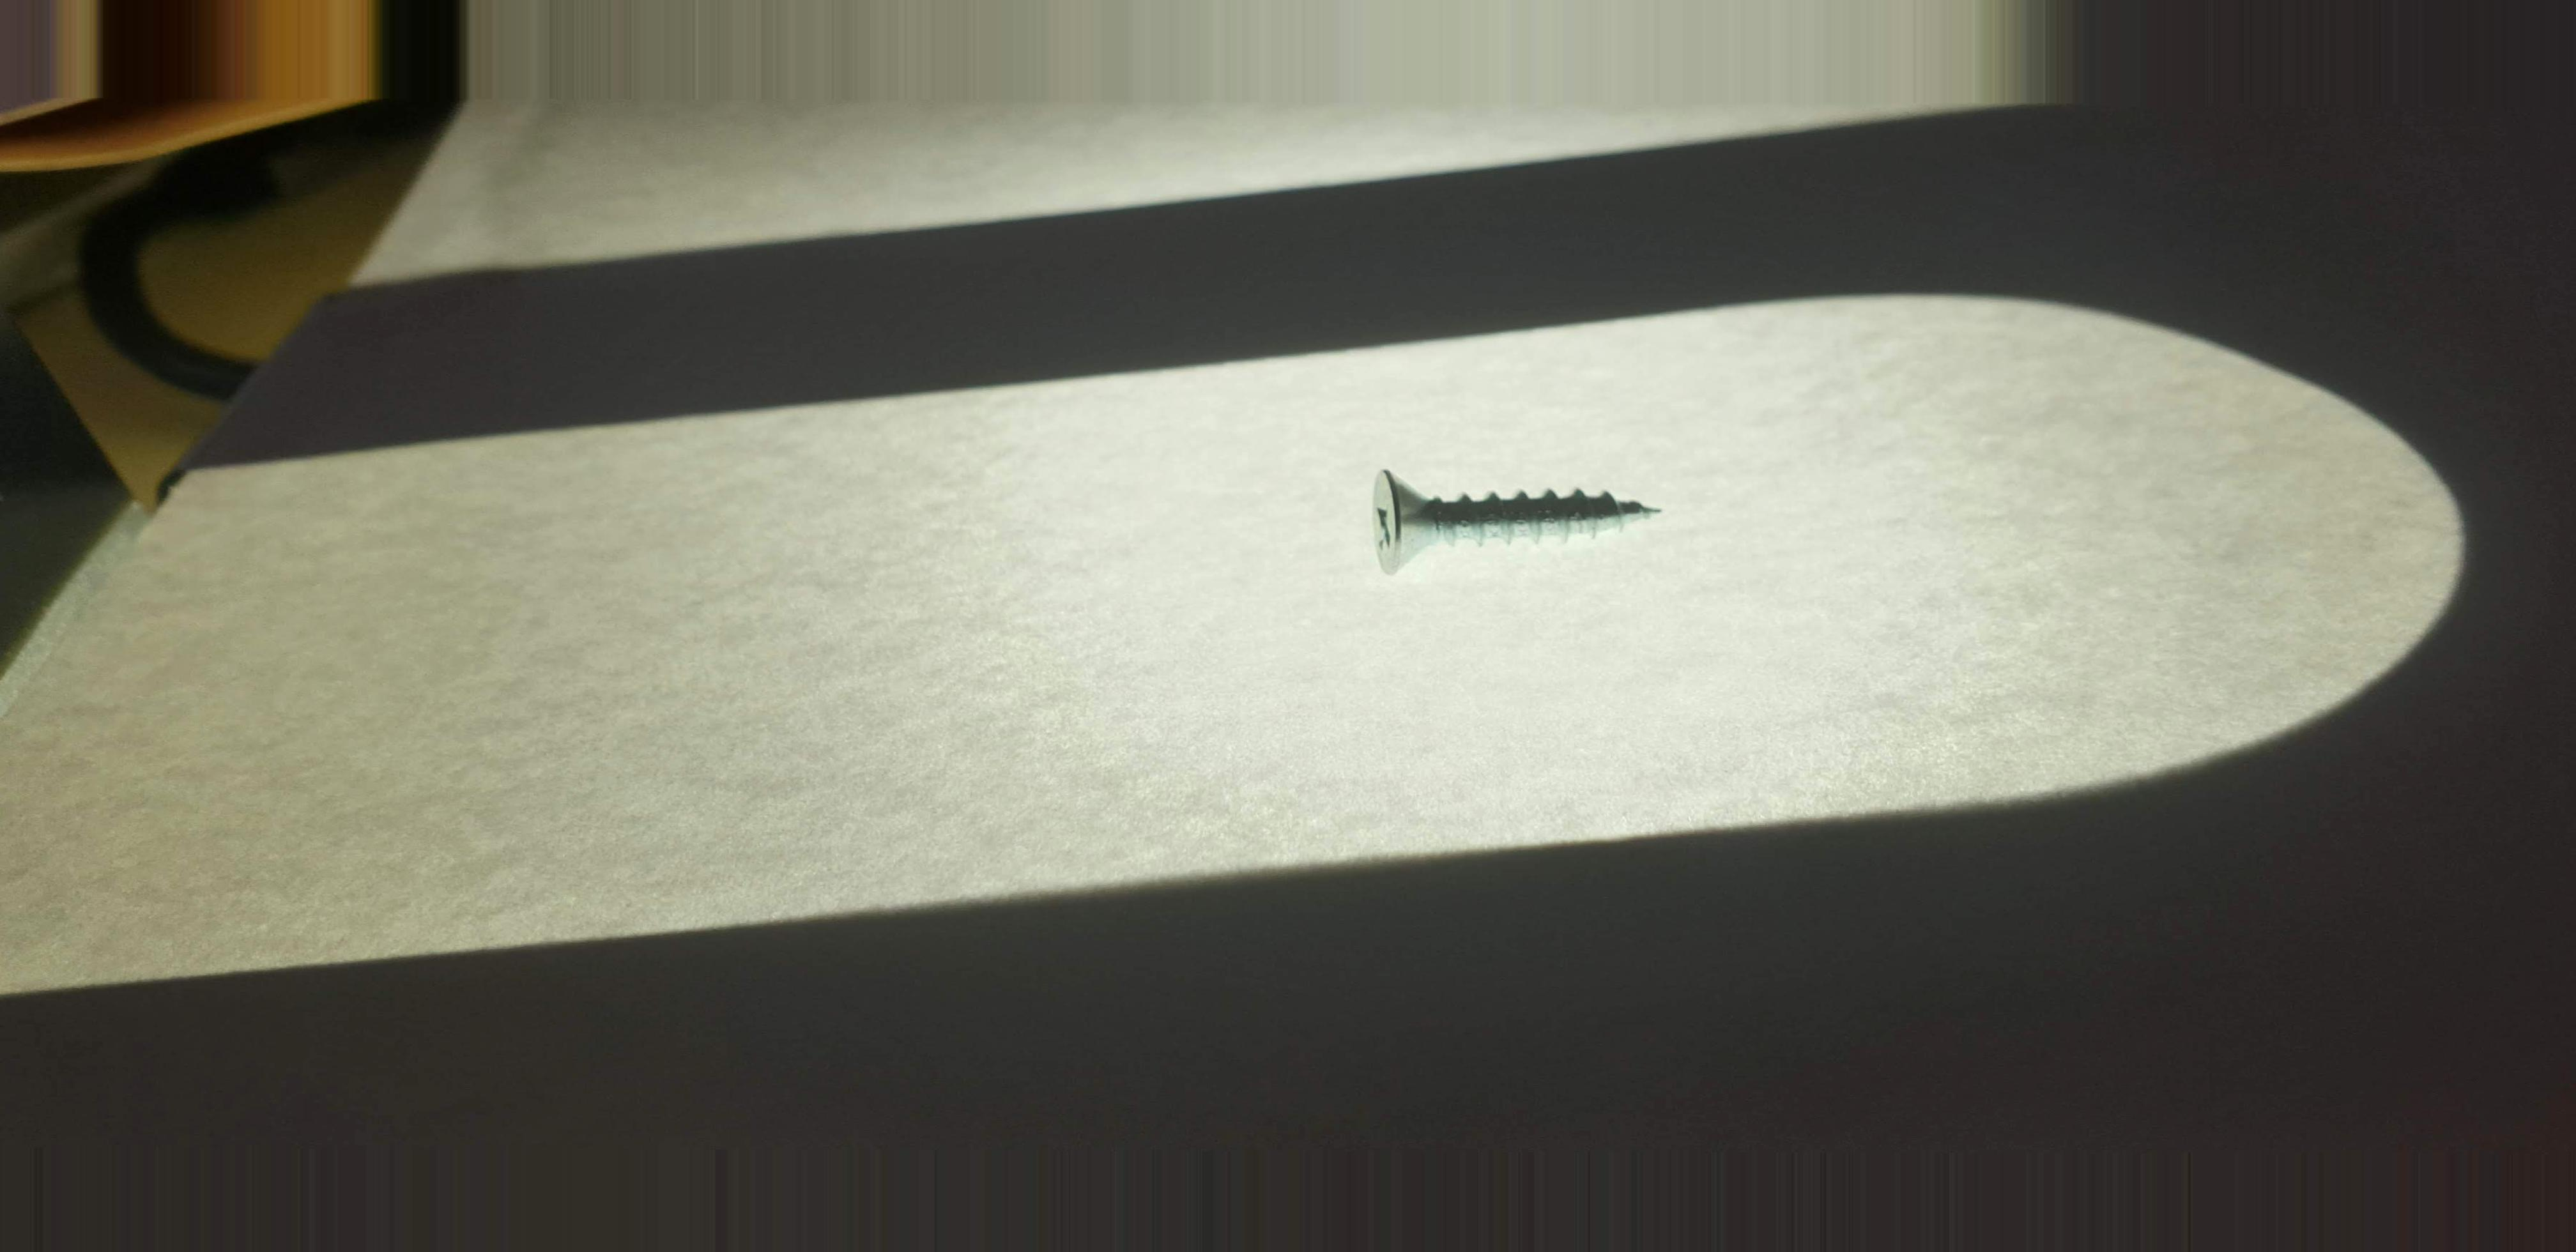S003: (1327, 424, 1692, 605)
